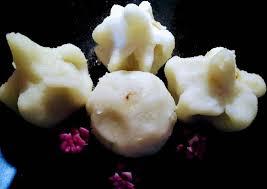modak: (170, 42, 266, 146), (4, 28, 99, 126), (96, 62, 181, 156), (91, 1, 180, 79)
